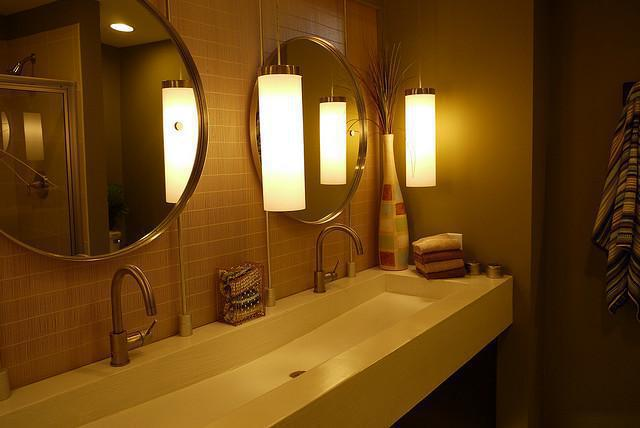Lavamanos: (0, 257, 304, 427), (304, 215, 511, 427)
